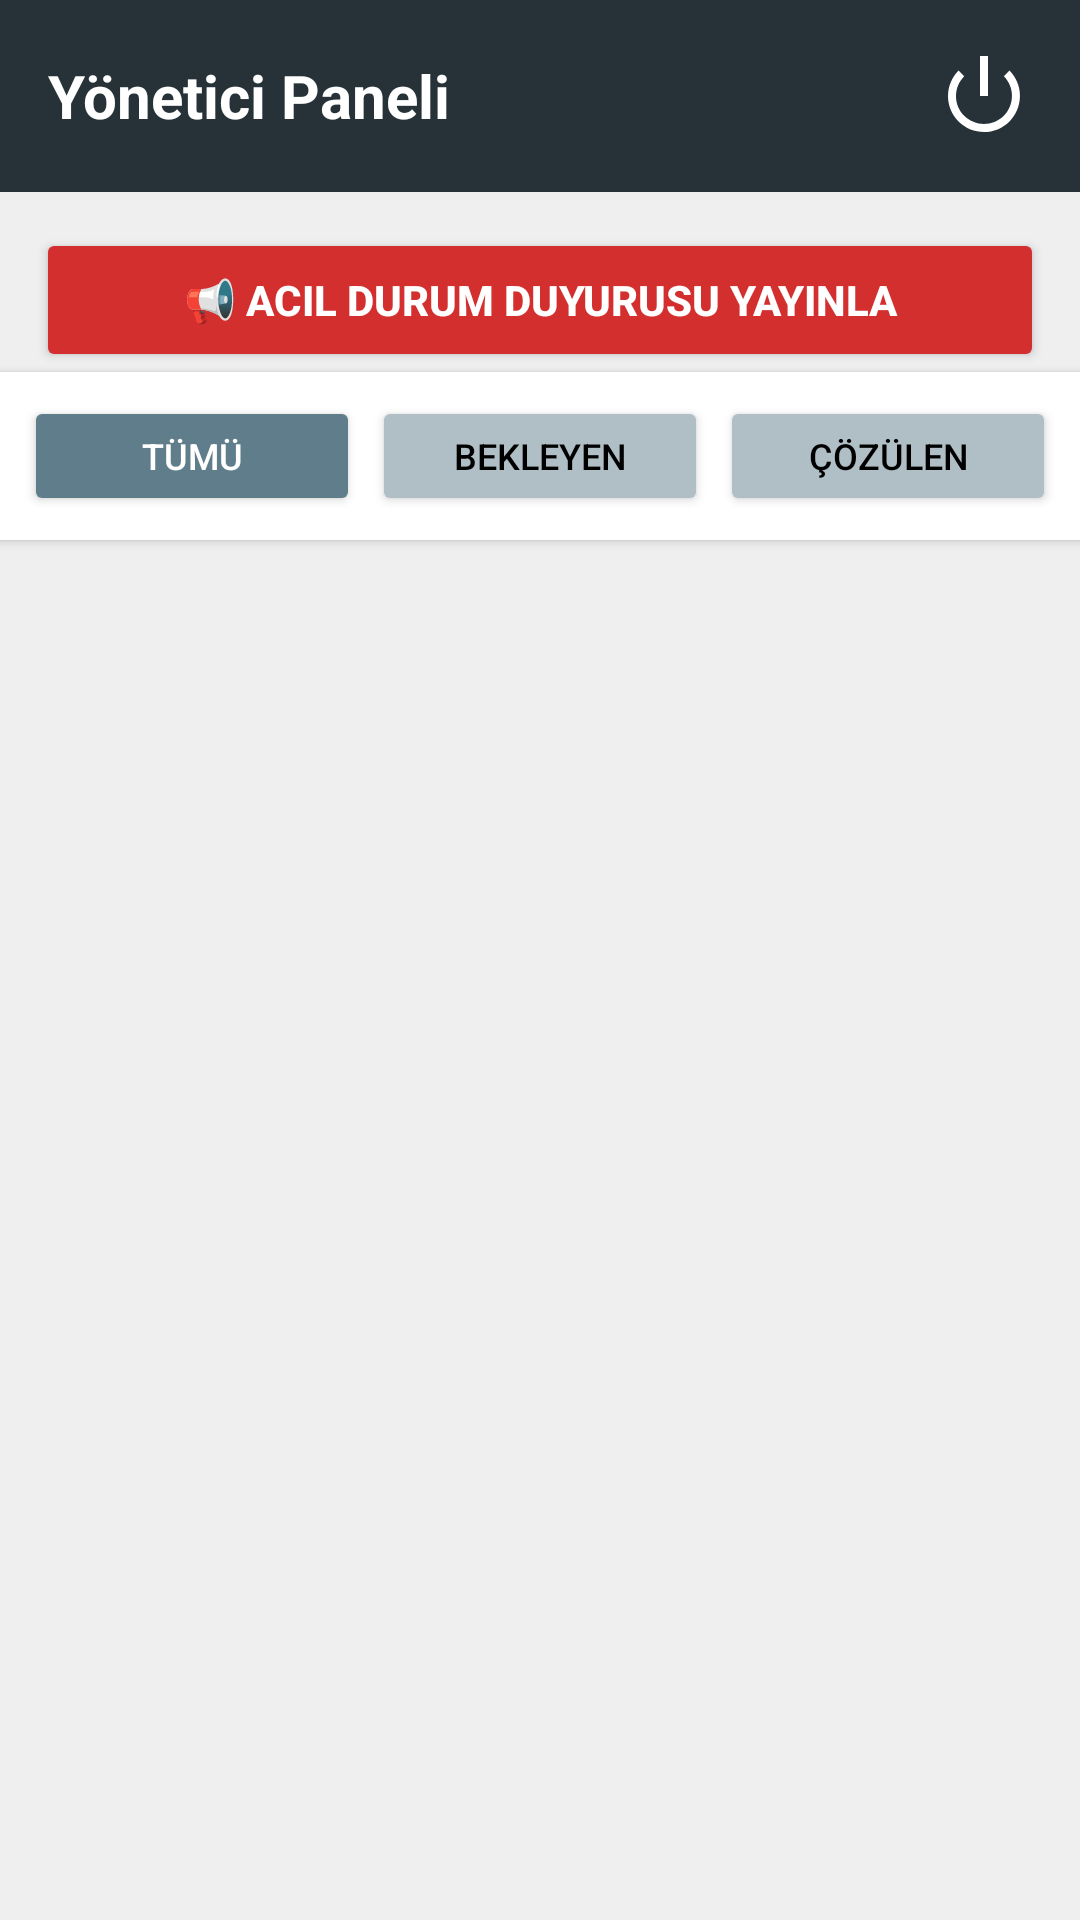

Where to tap for icons on this 1080w x 1920h app screen, as [x,y]:
lock power off: [984,94]
